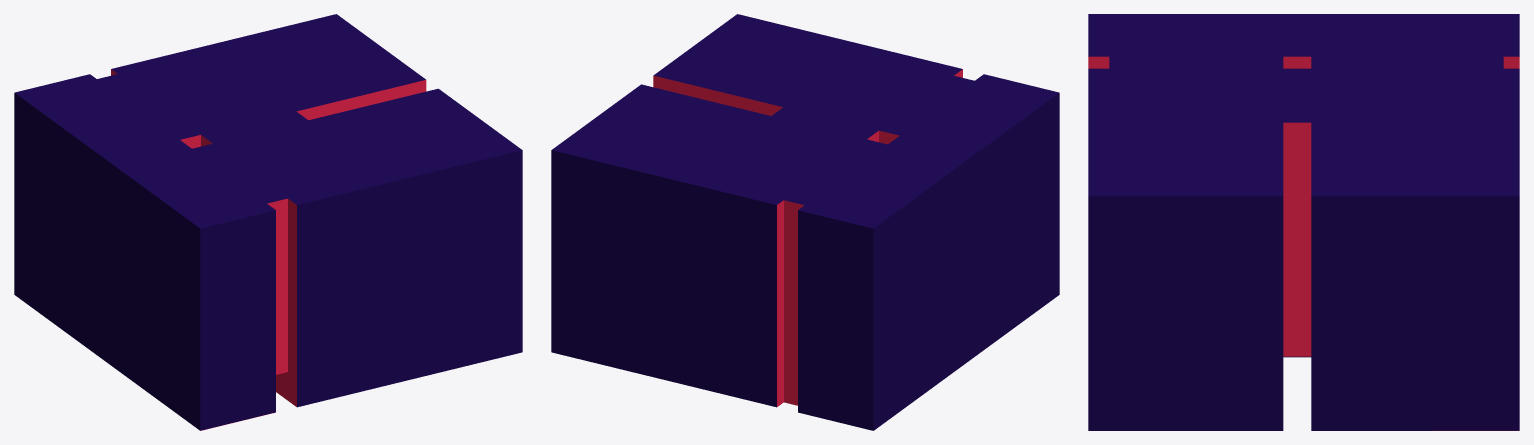
File: Platform05.fbx
The picture shows the model from 3 angles, left to right: view 1: azimuth 30°, elevation 25°; view 2: azimuth 150°, elevation 25°; view 3: azimuth 270°, elevation 25°; orthographic projection. The views are drawn at different scales.
Visible parts, largest first — view 1: Box065; view 2: Box065; view 3: Box065.
Boxes of the visible parts, <box> form: Box065: <box>14,14,522,430</box>; Box065: <box>551,14,1059,430</box>; Box065: <box>1088,14,1519,430</box>.
Bounding box in the file's own units: 127 × 76.2 × 127.
